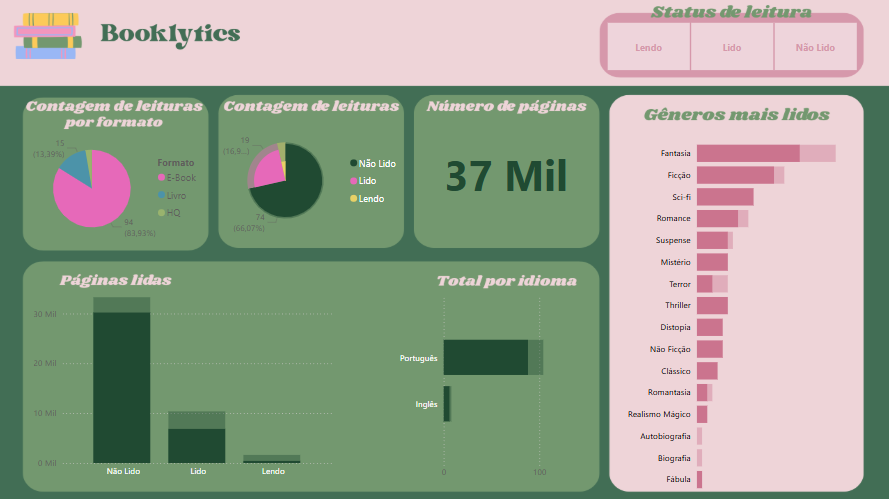

This screenshot's page, from the dashboard's own definition file:
{"tool":"powerbi","page":{"name":"Página 1","canvas":[1280,720],"ordinal":0},"visuals":[{"type":"card","fields":{"Values":["Sum(Estante Principal.Nº Páginas )"]},"box":[596.5,136.8,264.9,222.8],"z":0},{"type":"clusteredColumnChart","fields":{"Y":["Sum(Estante Principal.Nº Páginas )"],"Category":["Estante Principal.Status"]},"box":[44,401.3,441.3,294.7],"z":2000},{"type":"pieChart","fields":{"Category":["Estante Principal.Status"],"Y":["CountNonNull(Estante Principal.ID)"]},"box":[314,147.4,270.2,222.8],"z":3000},{"type":"barChart","title":"Contagem de Livros por Idioma","fields":{"Y":["CountNonNull(Estante Principal.ID)"],"Category":["Estante Principal.Idioma"]},"box":[566.7,415.8,294.7,282.5],"z":4000},{"type":"pieChart","fields":{"Category":["Estante Principal.Formato"],"Series":["Estante Principal.Status"],"Y":["CountNonNull(Estante Principal.ID)"]},"box":[26.3,161.4,271.9,222.8],"z":5000},{"type":"clusteredBarChart","fields":{"Category":["Estante Principal.Gênero"],"Y":["CountNonNull(Estante Principal.ID)"]},"box":[891.2,182.5,338.6,536.8],"z":6000},{"type":"slicer","fields":{"Values":["Estante Principal.Status"]},"box":[857,27.7,390,76.9],"z":6001}]}

Visuals, with their boxes in screenshot pixels (x1, y1, x2, y2), scaled from the page's 1280x720 canvas onto the 889x499 screenshot:
card - Sum(Estante Principal.Nº Páginas ): [414,95,598,249]
clusteredColumnChart - Sum(Estante Principal.Nº Páginas ) x Estante Principal.Status: [31,278,337,482]
pieChart - Estante Principal.Status x CountNonNull(Estante Principal.ID): [218,102,406,257]
"Contagem de Livros por Idioma" barChart: [394,288,598,484]
pieChart - Estante Principal.Formato x Estante Principal.Status: [18,112,207,266]
clusteredBarChart - Estante Principal.Gênero x CountNonNull(Estante Principal.ID): [619,126,854,498]
slicer - Estante Principal.Status: [595,19,866,72]
